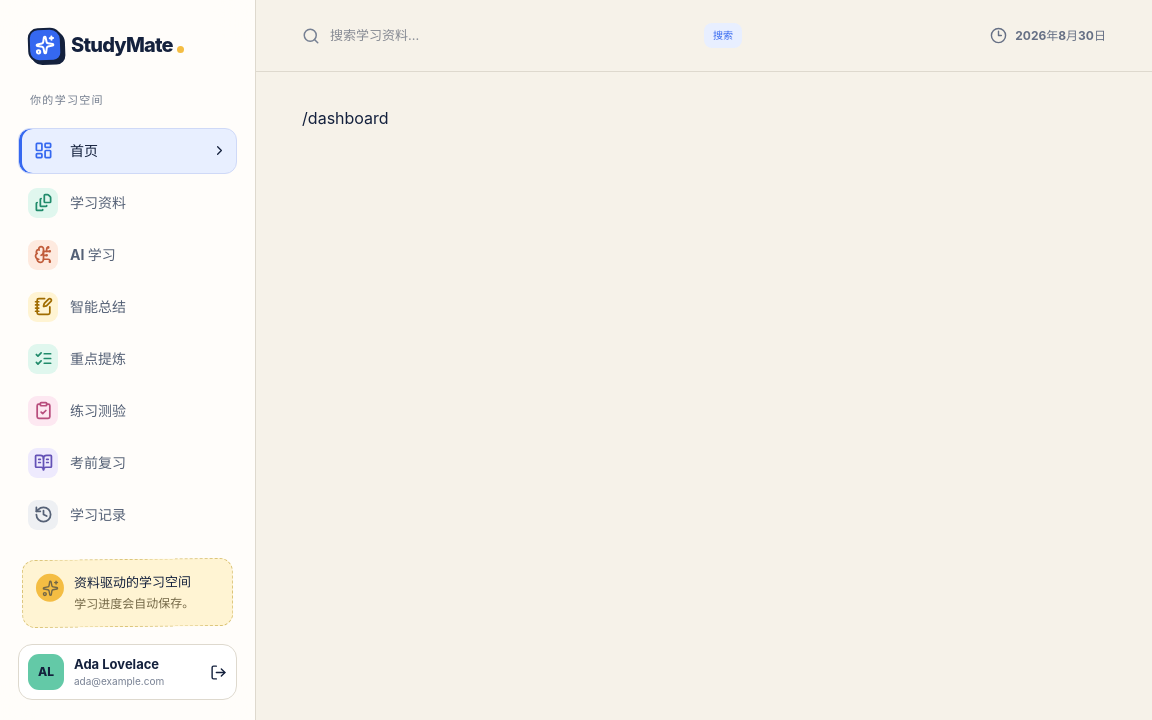
Test: AppShell › submits workspace search to the materials page
The image size is (1152, 720).
Step 1. Type "memory" into the search field named "搜索学习空间" → coordinates (512, 36), box [330,26,694,45]
Then press Enter
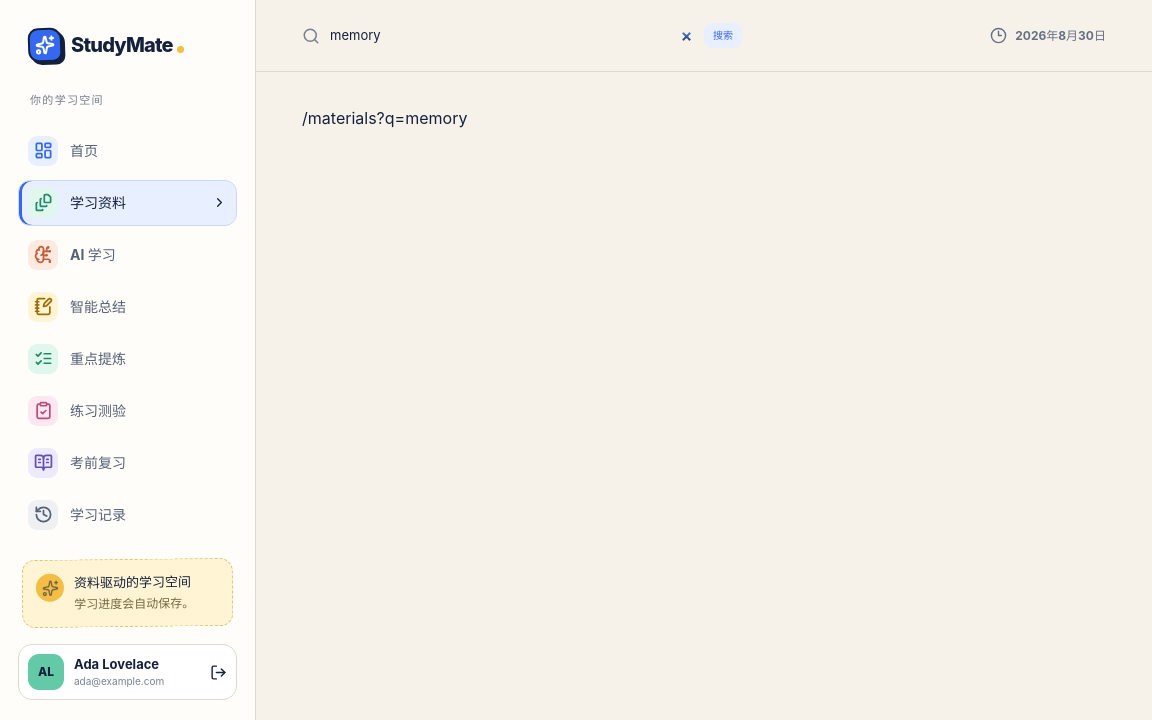
Check: the text "/materials?q=memory" is shown, box [302,108,467,128]
